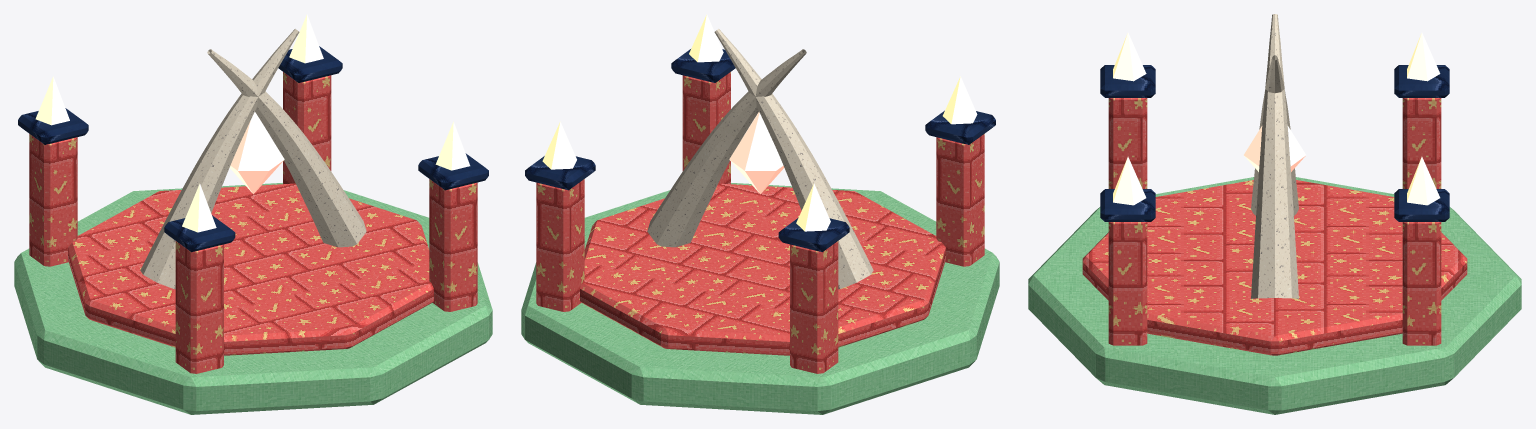
File: challenge.glb
3 views of the same model, side by side, from view 1: azimuth 30°, elevation 25°; view 2: azimuth 150°, elevation 25°; view 3: azimuth 270°, elevation 25° (orthographic).
Visible parts, largest first — view 1: Ring, Base, Horn1, Horn-1, Post2, Post3, Post1, Post0, Crystal, Cap2, Cap3, Cap1 (+5 smaller); view 2: Ring, Base, Horn1, Horn-1, Post1, Post0, Post2, Post3, Crystal, Cap1, Cap2, Cap0 (+5 smaller); view 3: Ring, Base, Horn1, Post0, Post3, Post1, Post2, Cap1, Cap2, Cap0, Cap3, Horn-1 (+5 smaller).
Part boxes in pixels (x1,y1,x2,y2): Ring: [68, 183, 433, 355]; Base: [14, 183, 492, 414]; Horn1: [207, 49, 366, 247]; Horn-1: [140, 29, 299, 289]; Post2: [175, 241, 223, 373]; Post3: [429, 179, 477, 311]; Post1: [29, 134, 77, 266]; Post0: [283, 72, 331, 184]; Crystal: [229, 112, 284, 194]; Cap2: [164, 215, 235, 252]; Cap3: [418, 153, 488, 190]; Cap1: [18, 108, 88, 144]; Ring: [580, 183, 945, 355]; Base: [521, 183, 999, 414]; Horn1: [647, 49, 806, 247]; Horn-1: [714, 29, 873, 289]; Post1: [790, 241, 838, 373]; Post0: [536, 179, 584, 311]; Post2: [936, 134, 984, 266]; Post3: [682, 72, 730, 184]; Crystal: [729, 112, 784, 194]; Cap1: [778, 218, 849, 252]; Cap2: [925, 110, 995, 144]; Cap0: [525, 156, 595, 190]; Ring: [1082, 180, 1467, 355]; Base: [1028, 177, 1521, 414]; Horn1: [1251, 14, 1298, 298]; Post0: [1402, 222, 1441, 345]; Post3: [1108, 222, 1147, 345]; Post1: [1402, 98, 1441, 188]; Post2: [1108, 98, 1147, 188]; Cap1: [1394, 65, 1449, 97]; Cap2: [1100, 65, 1155, 97]; Cap0: [1394, 189, 1449, 221]; Cap3: [1100, 189, 1155, 221]; Horn-1: [1251, 55, 1298, 215].
Size of the model in its own units: 5.34 by 3.33 by 5.34.
Materials: 6 (4 with a texture image).
